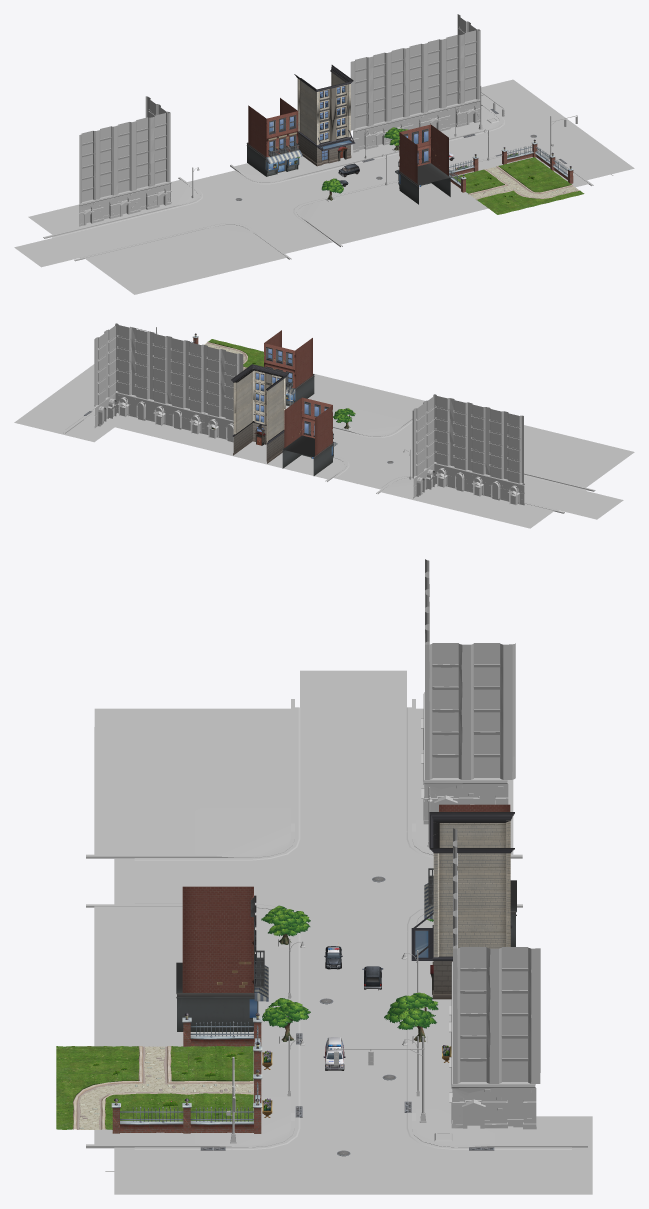
Rendered from JianKongJieDao_02.FBX.
The picture shows the model from 3 angles, top to bottom: view 1: azimuth 30°, elevation 25°; view 2: azimuth 150°, elevation 25°; view 3: azimuth 270°, elevation 25°; orthographic projection. The views are drawn at different scales.
Visible parts, largest first — view 1: JianKongJieDao_01_changjing_03, JianKongJieDao_01_changjing_06, Object005, Object002, Object003; view 2: JianKongJieDao_01_changjing_03, JianKongJieDao_01_changjing_06, Object002, Object005, Object003, Object001; view 3: JianKongJieDao_01_changjing_03, JianKongJieDao_01_changjing_06, Object002, Object001, JianKongJieDao_01_touming_02, Object006, JianKongJieDao_01_changjing_05.
Boxes of the visible parts, <box> form: JianKongJieDao_01_changjing_03: <box>14,79,634,294</box>; JianKongJieDao_01_changjing_06: <box>235,65,584,214</box>; Object005: <box>79,113,171,226</box>; Object002: <box>389,14,481,143</box>; Object003: <box>350,52,389,152</box>; JianKongJieDao_01_changjing_03: <box>14,326,634,528</box>; JianKongJieDao_01_changjing_06: <box>84,330,393,475</box>; Object002: <box>94,323,205,434</box>; Object005: <box>434,394,524,505</box>; Object003: <box>204,345,243,442</box>; Object001: <box>412,394,435,498</box>; JianKongJieDao_01_changjing_03: <box>86,670,592,1194</box>; JianKongJieDao_01_changjing_06: <box>56,804,516,1156</box>; Object002: <box>449,863,540,1129</box>; Object001: <box>423,643,515,824</box>; JianKongJieDao_01_touming_02: <box>261,905,433,1041</box>; Object006: <box>384,992,438,1042</box>; JianKongJieDao_01_changjing_05: <box>323,942,383,1070</box>.
Size of the model in its own units: 648 by 104 by 280.
